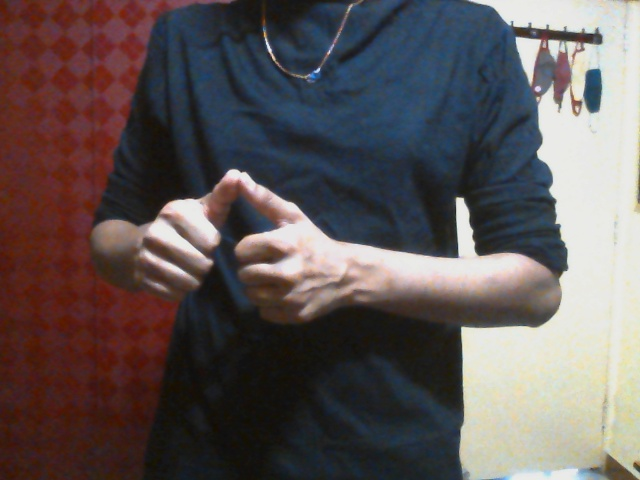A: (131, 169, 328, 331)
